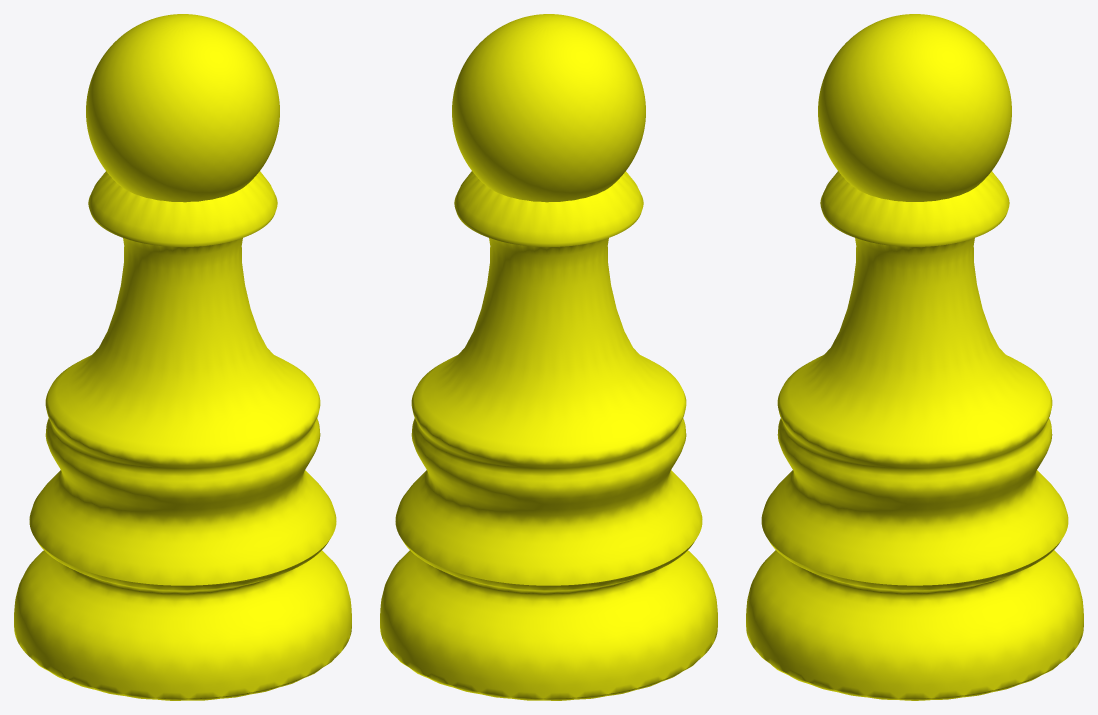
Rendered from yellow_pawn.glb.
3 views of the same model, side by side, from view 1: azimuth 30°, elevation 25°; view 2: azimuth 150°, elevation 25°; view 3: azimuth 270°, elevation 25° (orthographic).
Parts seen in each view (by area): view 1: Sketchfab Model; view 2: Sketchfab Model; view 3: Sketchfab Model.
Part boxes in pixels (x1,y1,x2,y2): Sketchfab Model: [14, 14, 351, 700]; Sketchfab Model: [380, 14, 717, 700]; Sketchfab Model: [746, 14, 1083, 700].
Size of the model in its own units: 0.7867 by 1.58 by 0.7867.
